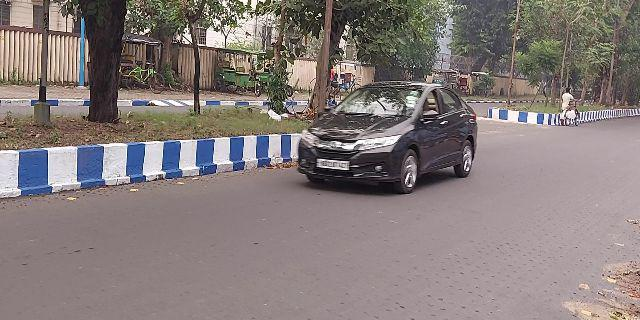Car: (296, 80, 483, 192)
Cycle: (562, 100, 586, 128)
